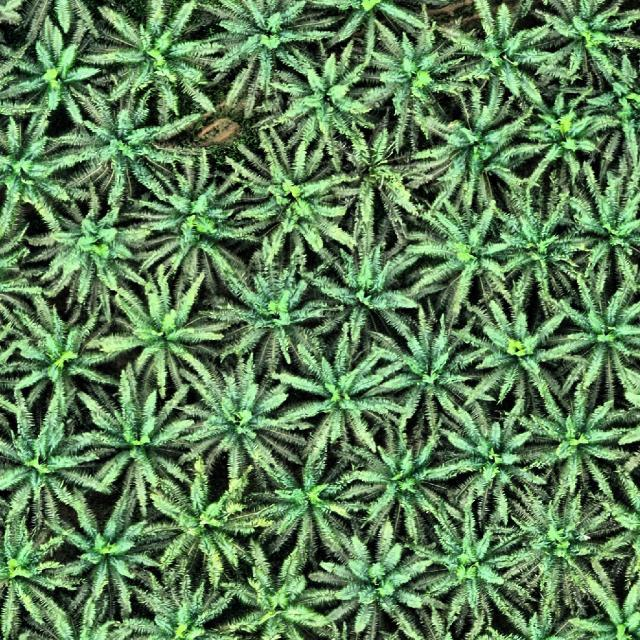Kelapa_Sawit: (306, 244, 422, 352), (112, 278, 215, 392), (192, 368, 297, 479), (295, 353, 400, 463), (0, 421, 103, 532), (245, 140, 347, 252), (267, 61, 388, 155), (88, 392, 186, 506), (312, 120, 420, 222), (216, 260, 330, 356), (11, 322, 114, 428), (456, 8, 553, 120), (442, 414, 544, 520), (358, 42, 473, 136), (467, 292, 561, 406), (66, 502, 162, 612), (346, 429, 448, 532), (498, 92, 606, 188), (414, 106, 525, 198), (382, 324, 474, 434), (142, 175, 241, 272), (420, 524, 520, 620), (538, 391, 628, 497), (46, 204, 146, 298), (270, 470, 370, 564), (553, 280, 640, 388), (76, 103, 168, 205), (150, 490, 252, 582), (426, 208, 514, 314), (326, 532, 424, 626), (500, 198, 586, 304), (226, 4, 326, 92), (117, 10, 208, 106), (10, 36, 110, 122), (0, 123, 70, 240), (547, 3, 640, 91), (520, 504, 608, 596), (0, 520, 66, 640), (567, 188, 640, 292), (245, 573, 339, 640)
